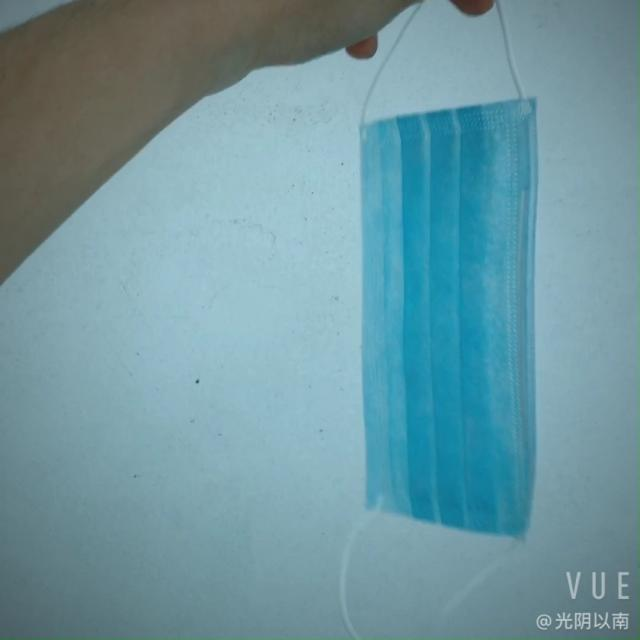non-organic waste: (327, 80, 557, 542)
